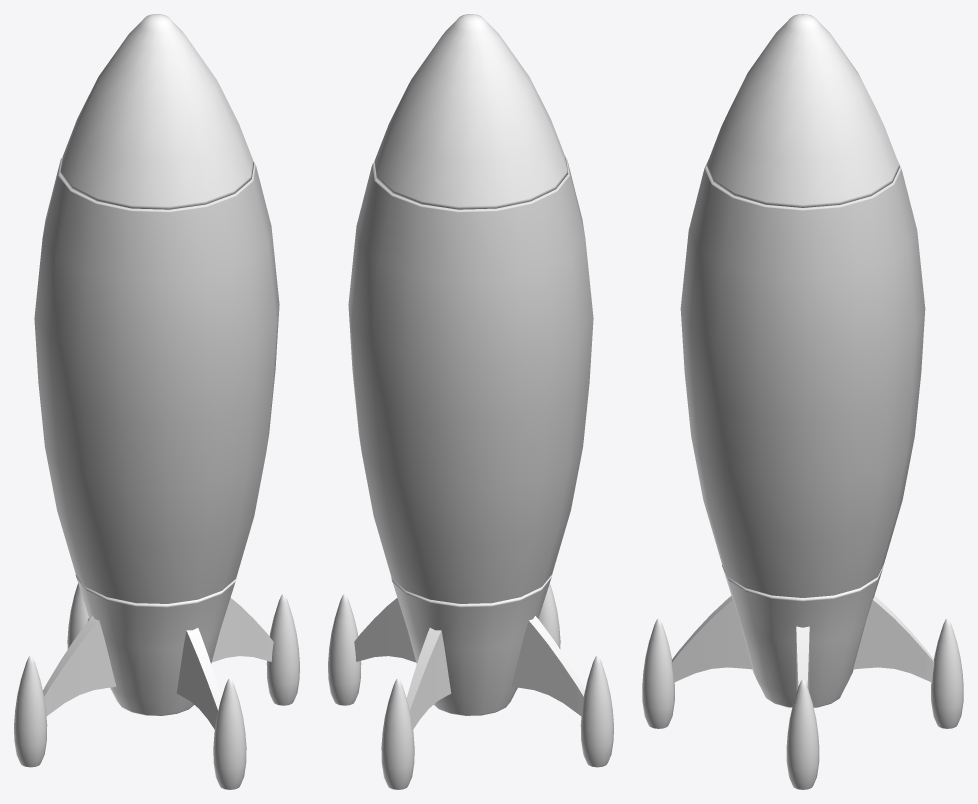
Rendered from ToyRocketWhite.fbx.
3 renders of one model, left to right at view 1: azimuth 30°, elevation 25°; view 2: azimuth 150°, elevation 25°; view 3: azimuth 270°, elevation 25°, orthographic.
Parts seen in each view (by area): view 1: Rocket, RocketCaps; view 2: Rocket, RocketCaps; view 3: Rocket, RocketCaps.
Boxes of the visible parts, bbox=[...] form: Rocket: bbox=[34, 158, 279, 603]; RocketCaps: bbox=[14, 14, 299, 789]; Rocket: bbox=[348, 158, 593, 603]; RocketCaps: bbox=[328, 14, 613, 789]; Rocket: bbox=[680, 159, 925, 597]; RocketCaps: bbox=[642, 14, 963, 789].
Size of the model in its own units: 3.11 by 7.56 by 3.11.
